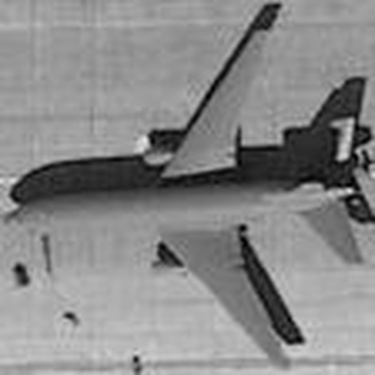airplane: (8, 7, 370, 371)
